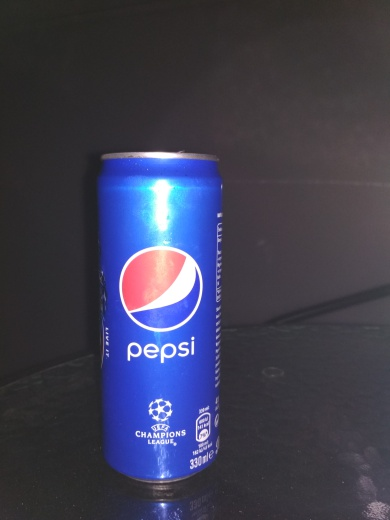pepsi: (87, 142, 224, 489)
